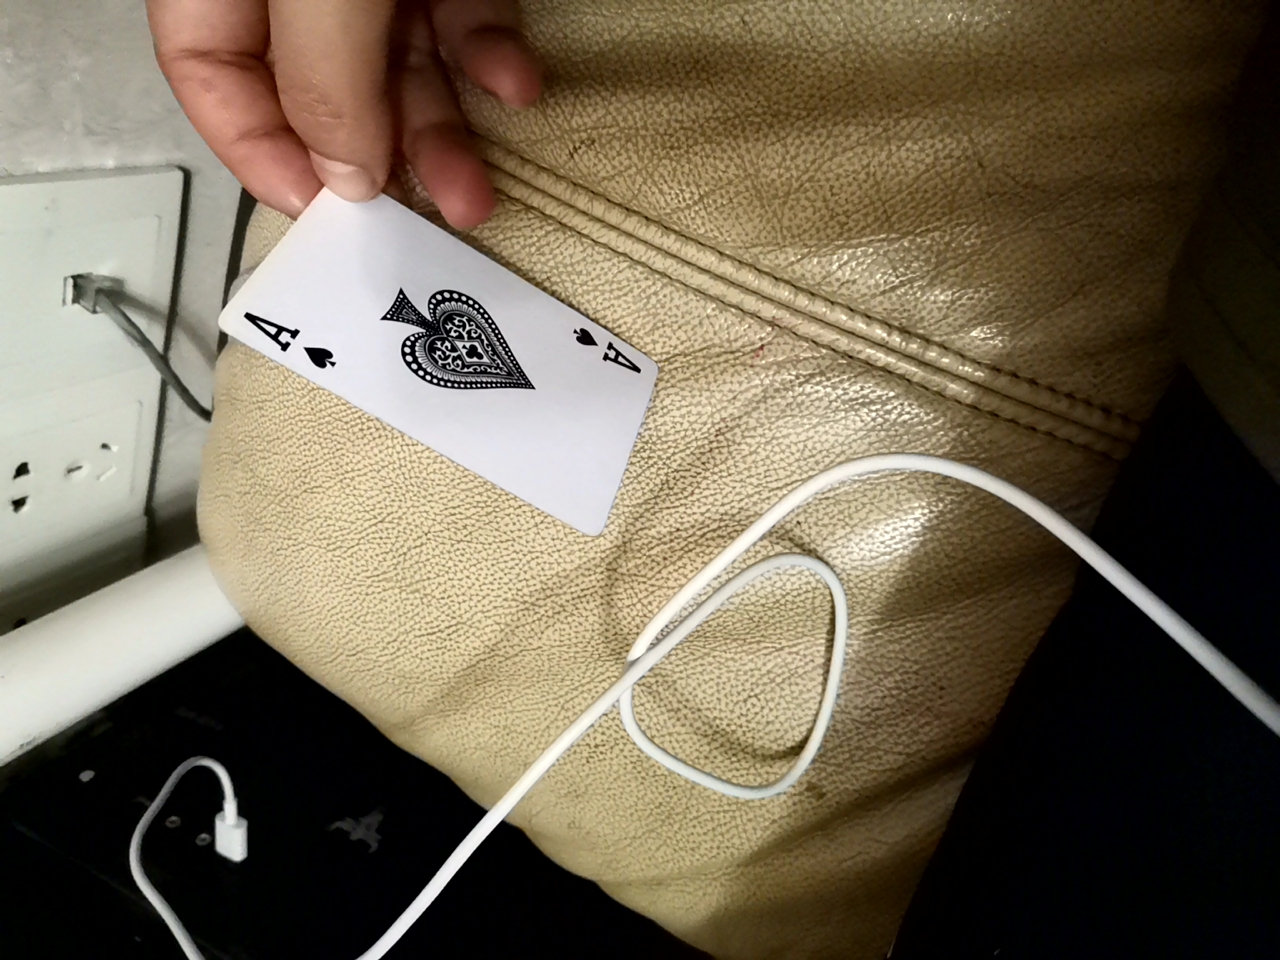ht a: (221, 164, 648, 558)
